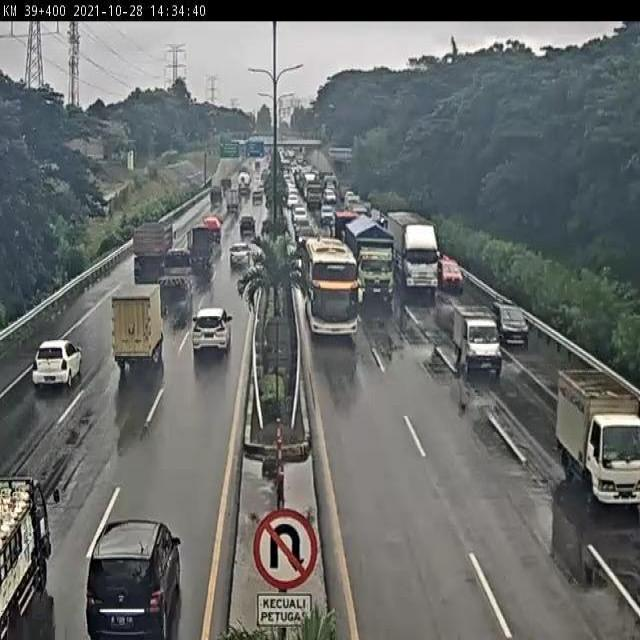big bus: (298, 234, 360, 338)
big truck: (392, 212, 441, 304), (354, 213, 398, 310), (130, 204, 174, 281), (445, 279, 454, 281)
car: (549, 361, 639, 520), (87, 517, 185, 640), (19, 320, 91, 416), (182, 293, 233, 380), (446, 304, 503, 380), (499, 295, 535, 352), (436, 252, 467, 300), (225, 239, 255, 276), (235, 213, 265, 244), (202, 179, 225, 212), (202, 214, 229, 242), (223, 187, 242, 214), (293, 205, 310, 227), (250, 182, 264, 206), (320, 204, 332, 227), (36, 363, 40, 373), (304, 223, 310, 224), (328, 220, 329, 221)
small truck: (0, 472, 57, 640), (106, 277, 170, 387), (157, 252, 194, 312), (186, 230, 220, 278), (336, 207, 352, 237), (162, 258, 168, 262), (560, 453, 562, 463), (155, 227, 167, 228)
